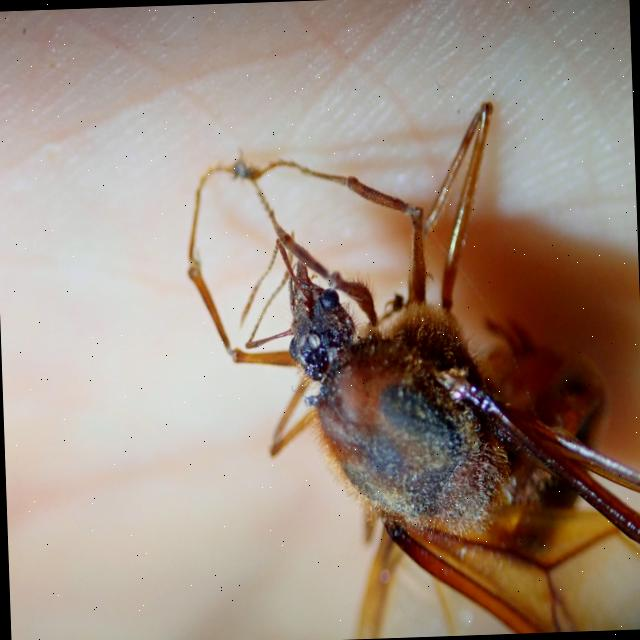Dead-Male-Alate: (181, 94, 640, 640)
